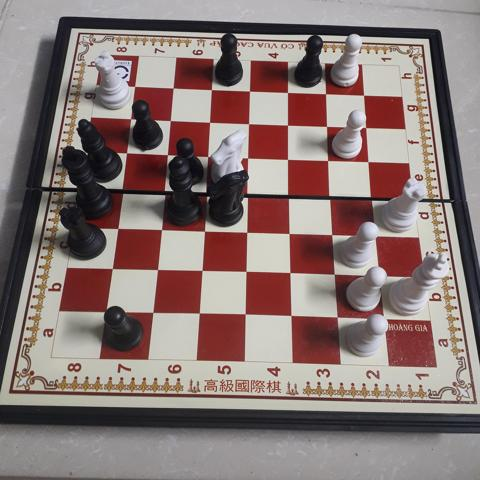xcorner: (377, 309, 394, 326), (98, 302, 115, 318), (114, 179, 130, 196), (156, 181, 173, 197), (283, 184, 299, 201), (241, 147, 257, 164), (320, 116, 337, 132), (127, 78, 143, 95), (145, 304, 161, 320), (192, 305, 208, 321), (239, 306, 255, 322), (285, 307, 301, 323), (331, 308, 347, 324), (104, 259, 120, 275), (149, 260, 165, 276), (194, 261, 210, 277), (239, 262, 255, 278), (284, 263, 300, 279), (329, 265, 345, 281), (373, 266, 389, 282), (109, 218, 125, 234), (153, 219, 169, 235), (197, 220, 213, 236), (240, 221, 256, 237), (283, 223, 299, 239), (327, 224, 343, 240), (370, 225, 386, 241), (199, 182, 215, 198), (241, 183, 257, 199), (324, 186, 340, 202), (366, 187, 382, 203), (119, 144, 135, 160), (160, 145, 176, 161), (201, 146, 217, 162), (282, 149, 298, 165), (322, 150, 338, 166), (363, 151, 379, 167), (123, 110, 139, 126), (163, 111, 179, 127), (202, 113, 218, 129), (242, 114, 258, 130), (281, 115, 297, 131), (360, 118, 376, 134), (166, 80, 182, 96), (204, 81, 220, 97), (242, 82, 258, 98), (281, 84, 297, 100), (319, 85, 335, 101), (357, 86, 373, 102)
